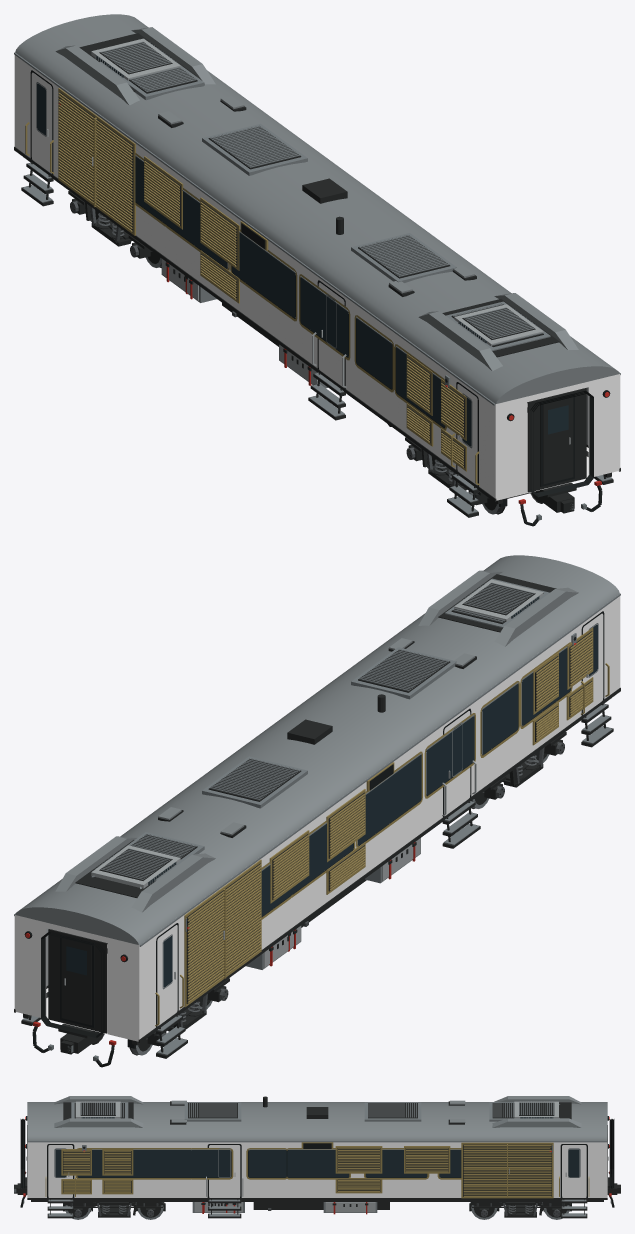
Rendered from nusantara-explorer-high-packed.glb.
The picture shows the model from 3 angles, top to bottom: view 1: azimuth 30°, elevation 25°; view 2: azimuth 150°, elevation 25°; view 3: azimuth 270°, elevation 25°; orthographic projection. The views are drawn at different scales.
Parts seen in each view (by area): view 1: passenger-body (×6), passenger-door--1-1 (×2), passenger-door--1--1, rail-bogie--1, rail-bogie-1; view 2: passenger-body (×7), passenger-door--1-1 (×2), passenger-door--1--1, rail-bogie-1, rail-bogie--1; view 3: passenger-body (×5), passenger-door-1-1 (×2), passenger-door-1--1, rail-bogie--1, rail-bogie-1.
Part boxes in pixels (left/top/right/bottom): passenger-body (×6): left=14, top=14, right=620, bottom=526; passenger-door--1-1 (×2): left=318, top=282, right=477, bottom=484; passenger-door--1--1: left=31, top=72, right=52, bottom=173; rail-bogie--1: left=68, top=191, right=160, bottom=258; rail-bogie-1: left=405, top=437, right=538, bottom=507; passenger-body (×7): left=14, top=555, right=620, bottom=1067; passenger-door--1-1 (×2): left=444, top=613, right=603, bottom=815; passenger-door--1--1: left=157, top=925, right=177, bottom=1025; rail-bogie-1: left=471, top=732, right=566, bottom=801; rail-bogie--1: left=127, top=978, right=229, bottom=1048; passenger-body (×5): left=17, top=1096, right=617, bottom=1218; passenger-door-1-1 (×2): left=48, top=1145, right=240, bottom=1197; passenger-door-1--1: left=562, top=1145, right=586, bottom=1197; rail-bogie--1: left=469, top=1202, right=571, bottom=1217; rail-bogie-1: left=63, top=1202, right=165, bottom=1217.
Size of the model in its own units: 3.33 by 3.97 by 20.04.
